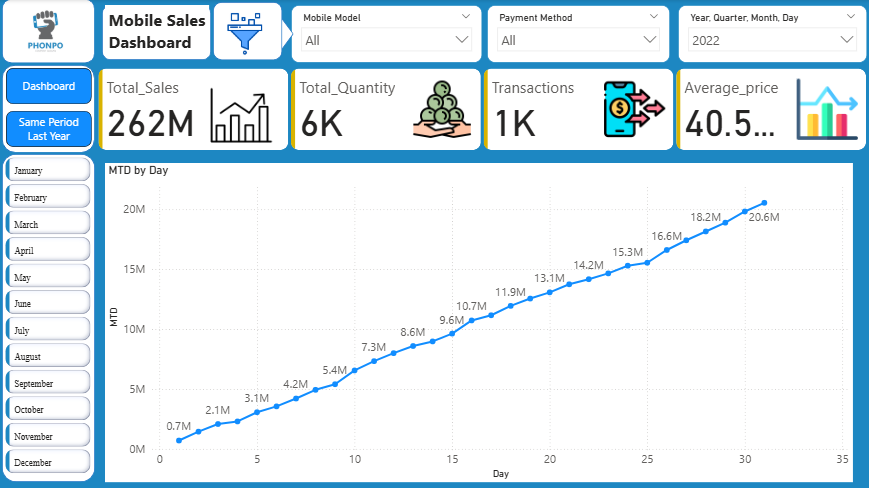

This screenshot's page, from the dashboard's own definition file:
{"tool":"powerbi","page":{"name":"MTD Report","canvas":[1280,720],"ordinal":1},"visuals":[{"type":"shape","box":[3,0,136.2,94.3],"z":0},{"type":"image","box":[0,0,134.7,94.3],"z":1000},{"type":"shape","box":[3,97.3,136.2,128.7],"z":2000},{"type":"shape","box":[2.9,227.8,136.7,482],"z":3000},{"type":"cardVisual","fields":{"Data":["Mobile_Sales_Data.Total_Sales","Mobile_Sales_Data.Total_Quantity","Mobile_Sales_Data.Transactions","Mobile_Sales_Data.Average_price"]},"box":[139.2,97.3,1140.8,130.2],"z":5000},{"type":"slicer","fields":{"Values":["Mobile_Sales_Data.Mobile Model"]},"box":[428.2,9,281.5,85.3],"z":6000},{"type":"slicer","fields":{"Values":["Mobile_Sales_Data.Payment Method"]},"box":[715.6,9,269.5,85.3],"z":7000},{"type":"slicer","fields":{"Values":["Custom_Calender.Date.Variation.Date Hierarchy.Year","Custom_Calender.Date.Variation.Date Hierarchy.Quarter","Custom_Calender.Date.Variation.Date Hierarchy.Month","Custom_Calender.Date.Variation.Date Hierarchy.Day"]},"box":[995.6,9,278.5,85.3],"z":8000},{"type":"shape","box":[383.3,19.5,47.9,64.4],"z":9000},{"type":"shape","box":[312.9,4.5,101.8,85.3],"z":10000},{"type":"image","box":[323.4,15,73.4,73.4],"z":11000},{"type":"shape","box":[149.7,9,160.2,80.8],"z":12000},{"type":"textbox","box":[154.2,9,152.7,74.9],"z":13000},{"type":"lineChart","fields":{"Y":["Mobile_Sales_Data.MTD"],"Category":["Custom_Calender.Date.Variation.Date Hierarchy.Year","Custom_Calender.Date.Variation.Date Hierarchy.Quarter","Custom_Calender.Date.Variation.Date Hierarchy.Month","Custom_Calender.Date.Variation.Date Hierarchy.Day"]},"box":[154.4,241.2,1098.5,469.1],"z":13001},{"type":"advancedSlicerVisual","fields":{"Values":["Custom_Calender.Date.Variation.Date Hierarchy.Month"]},"box":[2.9,227.9,135.3,482.4],"z":13002},{"type":"pageNavigator","box":[8.8,101.5,126.5,117.6],"z":13003}]}

Visuals, with their boxes in screenshot pixels (x1, y1, x2, y2), scaled from the page's 1280x720 canvas onto the 869x488 screenshot:
shape: rect(2, 0, 95, 64)
image: rect(0, 0, 91, 64)
shape: rect(2, 66, 95, 153)
shape: rect(2, 154, 95, 481)
cardVisual - Mobile_Sales_Data.Total_Sales x Mobile_Sales_Data.Total_Quantity: rect(95, 66, 868, 154)
slicer - Mobile_Sales_Data.Mobile Model: rect(291, 6, 482, 64)
slicer - Mobile_Sales_Data.Payment Method: rect(486, 6, 669, 64)
slicer - Custom_Calender.Date.Variation.Date Hierarchy.Year x Custom_Calender.Date.Variation.Date Hierarchy.Quarter: rect(676, 6, 865, 64)
shape: rect(260, 13, 293, 57)
shape: rect(212, 3, 282, 61)
image: rect(220, 10, 269, 60)
shape: rect(102, 6, 210, 61)
textbox: rect(105, 6, 208, 57)
lineChart - Mobile_Sales_Data.MTD x Custom_Calender.Date.Variation.Date Hierarchy.Year: rect(105, 163, 851, 481)
advancedSlicerVisual - Custom_Calender.Date.Variation.Date Hierarchy.Month: rect(2, 154, 94, 481)
pageNavigator: rect(6, 69, 92, 149)
